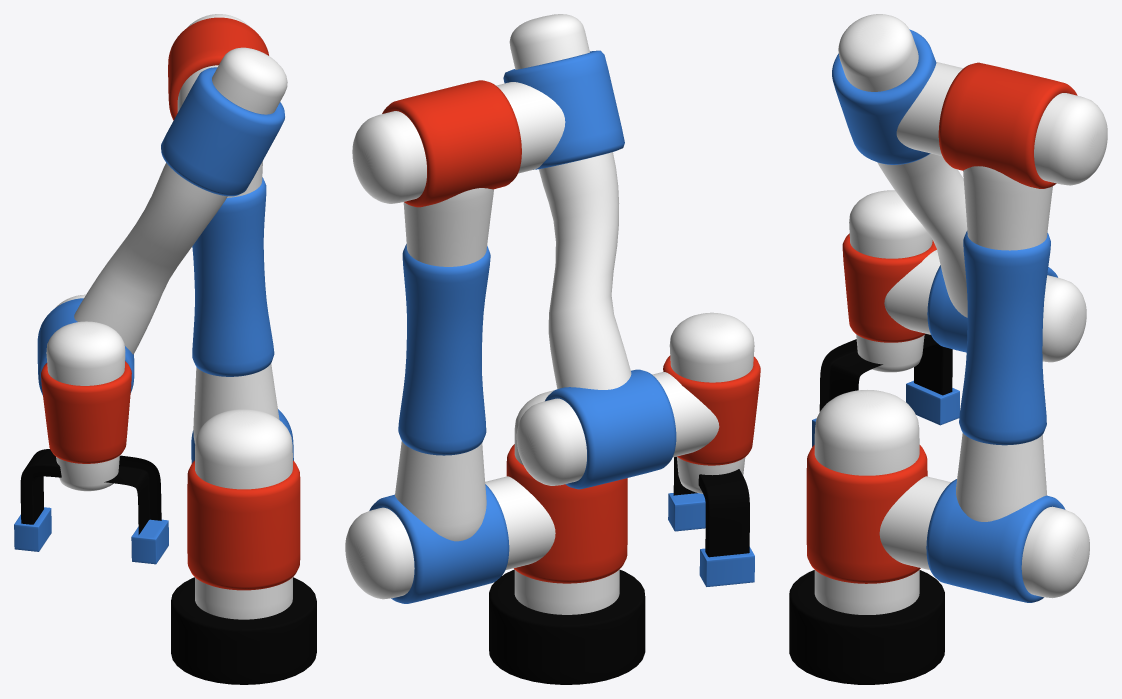
Rendered from cobots-3d-animated-icon-602855468251.glb.
The picture shows the model from 3 angles, left to right: view 1: azimuth 30°, elevation 25°; view 2: azimuth 150°, elevation 25°; view 3: azimuth 270°, elevation 25°; orthographic projection. The views are drawn at different scales.
Parts seen in each view (by area): view 1: Cylinder.373, Cylinder.370, Cylinder.366, Cylinder.365, Cylinder.364, Cylinder.374, Cylinder.378, NurbsPath.101, Cylinder.377, Cylinder.372, Cylinder.369, Cylinder.376 (+1 smaller); view 2: Cylinder.373, Cylinder.370, Cylinder.365, Cylinder.369, Cylinder.372, Cylinder.376, Cylinder.371, Cylinder.366, Cylinder.367, Cylinder.375, Cylinder.374, Cylinder.368 (+4 smaller); view 3: Cylinder.370, Cylinder.365, Cylinder.369, Cylinder.373, Cylinder.364, Cylinder.372, Cylinder.366, Cylinder.367, Cylinder.368, Cylinder.371, Cylinder.377, Cylinder.374 (+4 smaller).
Part boxes in pixels (x1,y1,x2,y2): Cylinder.373: (74, 47, 287, 354); Cylinder.370: (192, 177, 274, 376); Cylinder.366: (187, 460, 300, 590); Cylinder.365: (171, 577, 316, 684); Cylinder.364: (195, 409, 292, 619); Cylinder.374: (161, 67, 284, 196); Cylinder.378: (41, 361, 131, 463); NurbsPath.101: (14, 449, 168, 564); Cylinder.377: (46, 321, 125, 491); Cylinder.372: (168, 17, 268, 120); Cylinder.369: (193, 161, 279, 444); Cylinder.376: (37, 298, 134, 395); Cylinder.373: (509, 14, 631, 389); Cylinder.370: (398, 244, 490, 455); Cylinder.365: (489, 569, 645, 684); Cylinder.369: (395, 188, 493, 541); Cylinder.372: (382, 80, 521, 207); Cylinder.376: (545, 369, 676, 489); Cylinder.371: (352, 82, 565, 203); Cylinder.366: (506, 444, 627, 583); Cylinder.367: (345, 476, 555, 599); Cylinder.375: (516, 372, 719, 485); Cylinder.374: (503, 50, 624, 169); Cylinder.368: (369, 484, 509, 603); Cylinder.370: (959, 231, 1050, 445); Cylinder.365: (789, 570, 944, 684); Cylinder.369: (956, 166, 1052, 521); Cylinder.373: (838, 14, 967, 317); Cylinder.364: (814, 390, 919, 614); Cylinder.372: (938, 62, 1077, 188); Cylinder.366: (806, 445, 927, 583); Cylinder.367: (879, 476, 1089, 598); Cylinder.368: (926, 479, 1065, 602); Cylinder.371: (896, 62, 1107, 185); Cylinder.377: (849, 190, 932, 372); Cylinder.374: (832, 29, 936, 164).
Bounding box in the file's own units: 6.05 × 10.68 × 4.83.
